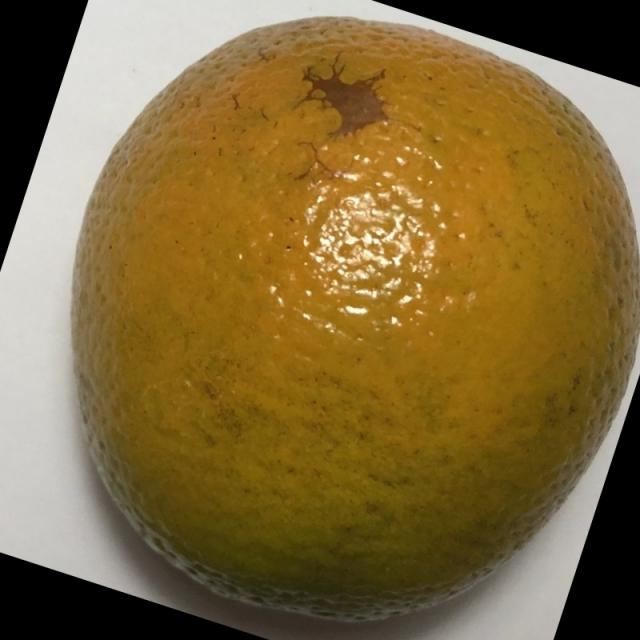canker: (40, 12, 640, 640)
